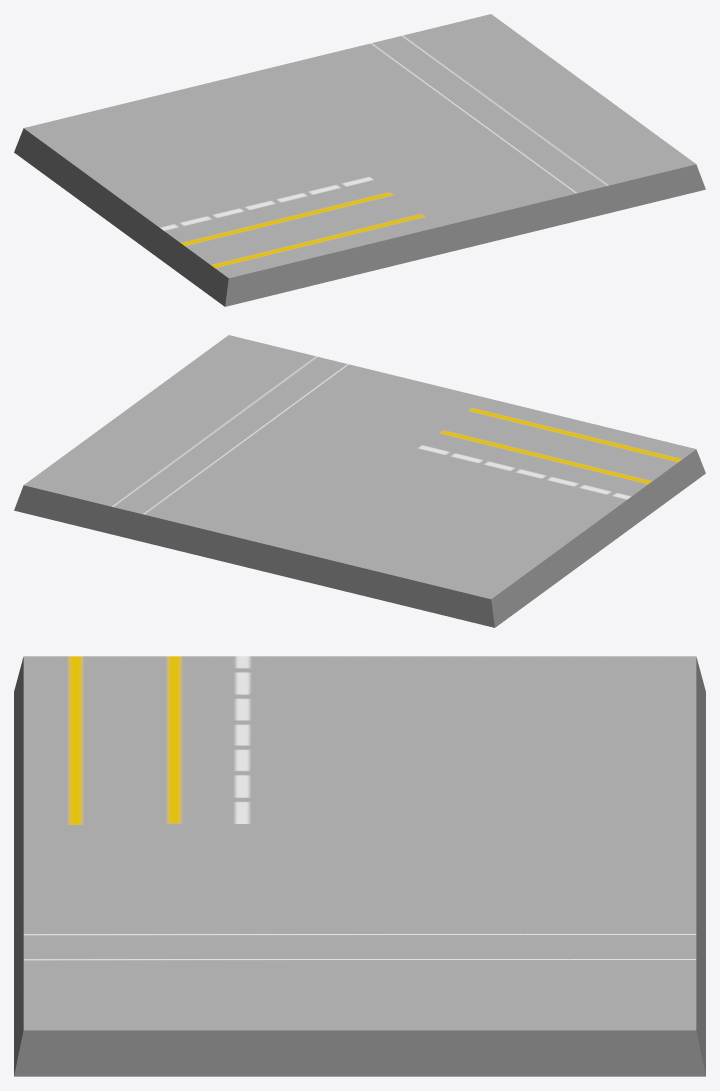
The model's file is 1스테이지.fbx.
3 renders of one model, top to bottom at view 1: azimuth 30°, elevation 25°; view 2: azimuth 150°, elevation 25°; view 3: azimuth 270°, elevation 25°, orthographic. The views are drawn at different scales.
Parts seen in each view (by area): view 1: Box160; view 2: Box160; view 3: Box160.
Boxes of the visible parts, left/top/right/bottom form: Box160: left=14, top=14, right=705, bottom=306; Box160: left=14, top=335, right=705, bottom=627; Box160: left=14, top=656, right=705, bottom=1076.
Size of the model in its own units: 2129 by 1618 by 105.
Materials: 1 (1 with a texture image).
